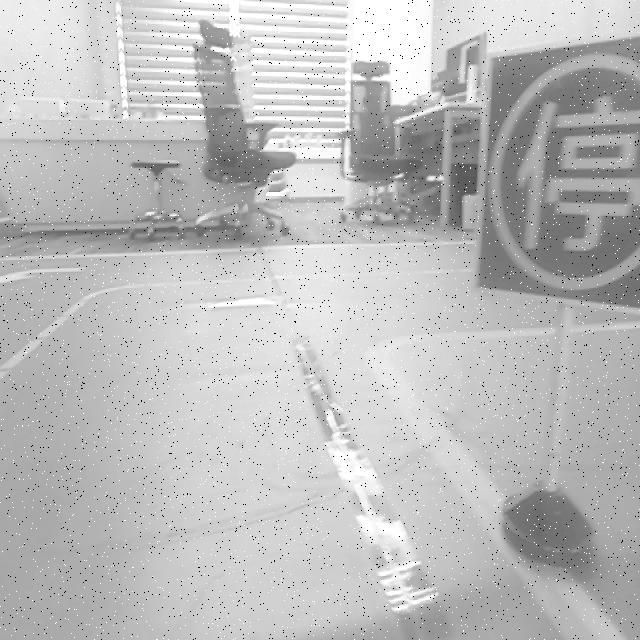left_lane: (1, 295, 90, 382)
right_lane: (368, 352, 624, 640)
